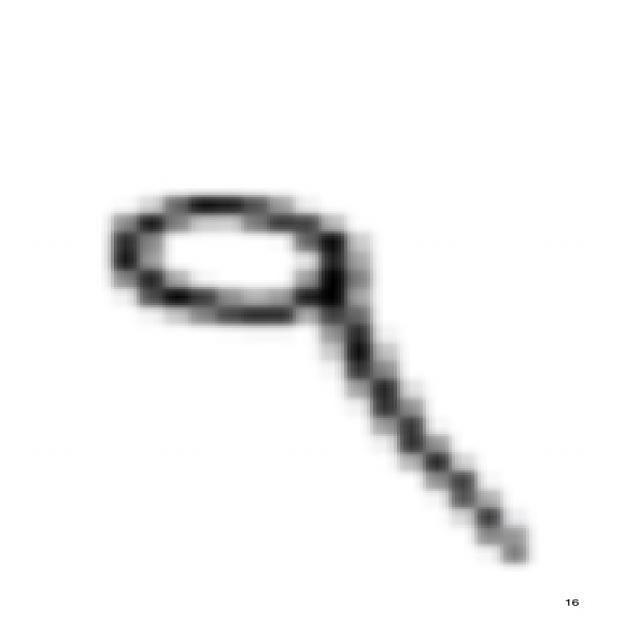9 -nine-: (86, 179, 560, 576)
